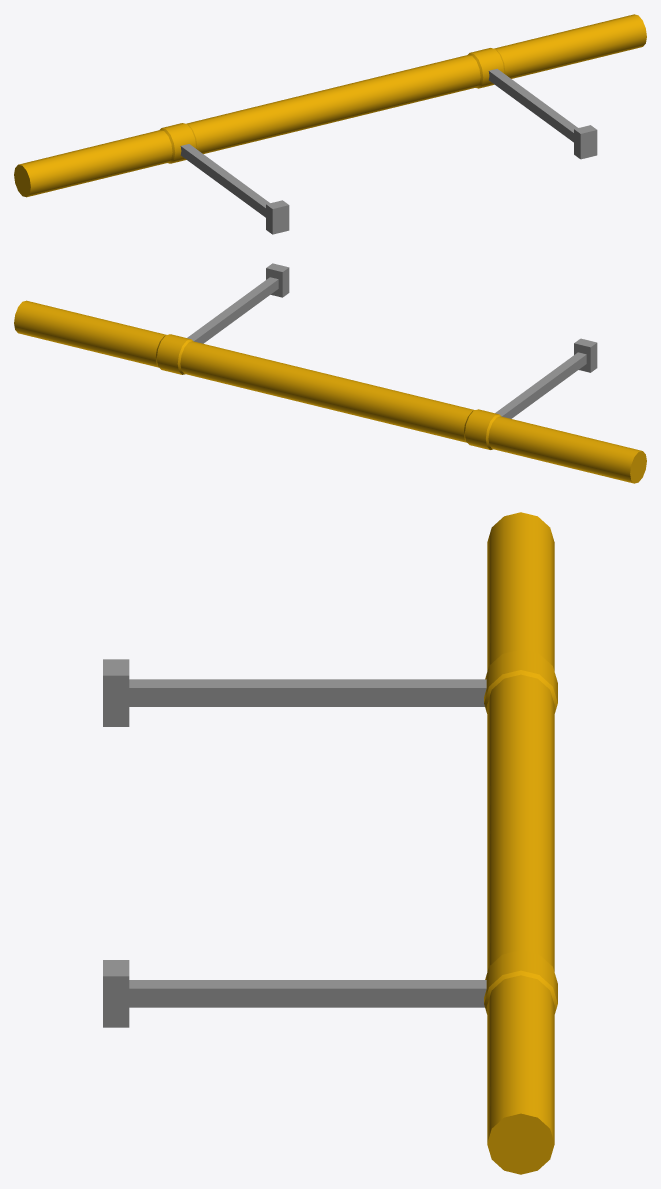
The model's file is RailTube2m.fbx.
The picture shows the model from 3 angles, top to bottom: view 1: azimuth 30°, elevation 25°; view 2: azimuth 150°, elevation 25°; view 3: azimuth 270°, elevation 25°; orthographic projection. The views are drawn at different scales.
Parts seen in each view (by area): view 1: RailTube2m; view 2: RailTube2m; view 3: RailTube2m.
Part boxes in pixels (x1,y1,x2,y2): RailTube2m: [14, 14, 646, 234]; RailTube2m: [14, 263, 646, 483]; RailTube2m: [103, 512, 557, 1174].
Size of the model in its own units: 200 by 10.39 by 63.93.
